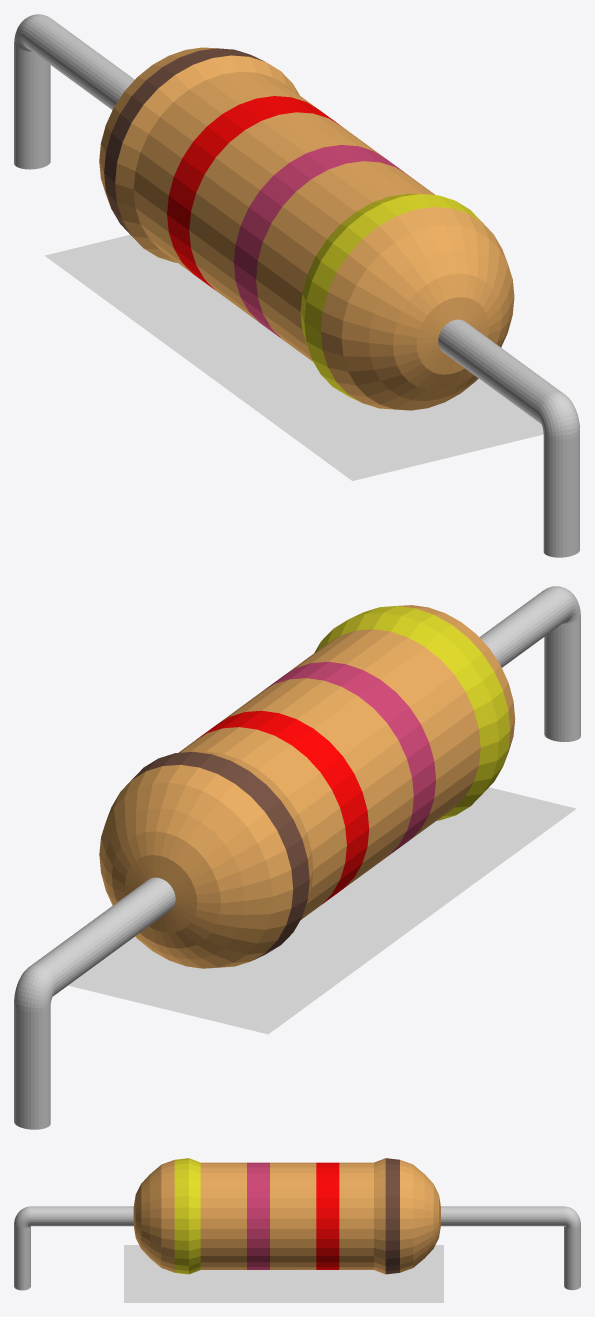
3 renders of one model, top to bottom at view 1: azimuth 30°, elevation 25°; view 2: azimuth 150°, elevation 25°; view 3: azimuth 270°, elevation 25°, orthographic. The views are drawn at different scales.
Visible parts, largest first — view 1: R_16, R_16_plane; view 2: R_16, R_16_plane; view 3: R_16, R_16_plane.
Part boxes in pixels (x1=…): R_16: x1=14, y1=14, x2=579, y2=557; R_16_plane: x1=45, y1=235, x2=580, y2=480; R_16: x1=14, y1=586, x2=580, y2=1129; R_16_plane: x1=68, y1=787, x2=576, y2=1034; R_16: x1=14, y1=1158, x2=580, y2=1290; R_16_plane: x1=124, y1=1245, x2=443, y2=1302.
Size of the model in its own units: 0.0161 by 0.0159 by 0.0664.
